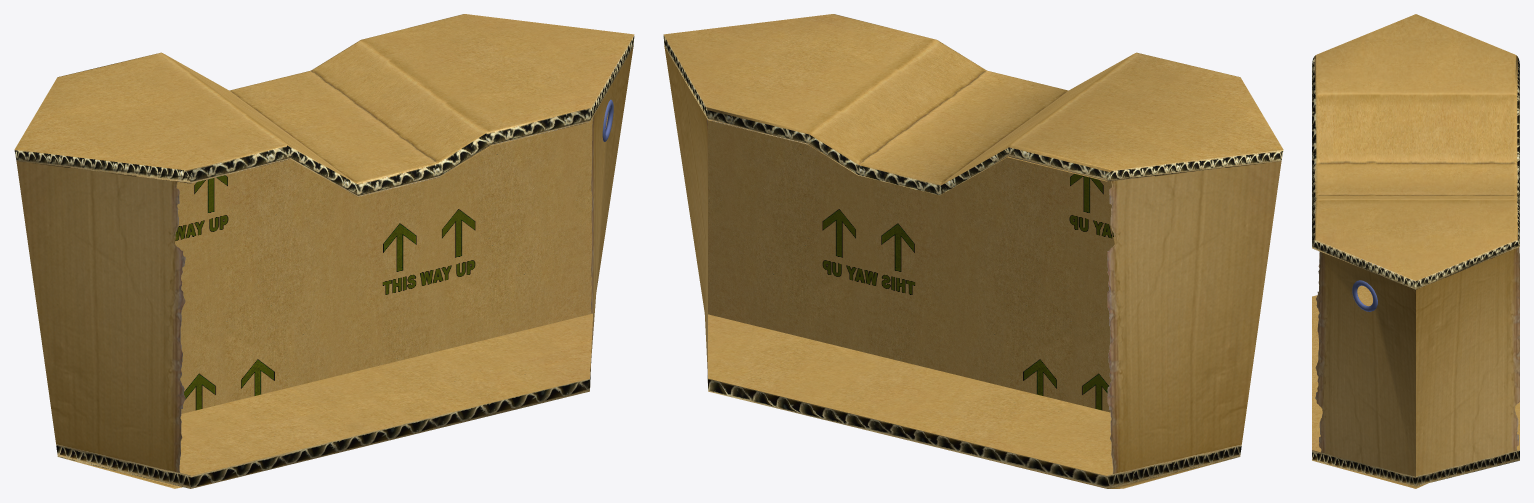
File: Boat - Week 9.fbx
3 renders of one model, left to right at view 1: azimuth 30°, elevation 25°; view 2: azimuth 150°, elevation 25°; view 3: azimuth 270°, elevation 25°, orthographic. The views are drawn at different scales.
Visible parts, largest first — view 1: Boat; view 2: Boat; view 3: Boat, Porthole.
Boxes of the visible parts, left/top/right/bottom form: Boat: left=14, top=14, right=634, bottom=488; Boat: left=663, top=14, right=1283, bottom=488; Boat: left=1312, top=14, right=1519, bottom=488; Porthole: left=1352, top=280, right=1377, bottom=311.
Size of the model in its own units: 46.02 by 26.82 by 16.93.
